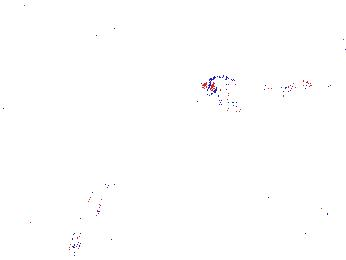X-ray fish: (198, 75, 255, 115)
glassfish: (181, 134, 275, 198), (68, 161, 124, 248)
red belly glassfish: (263, 77, 310, 93), (301, 68, 343, 85)
